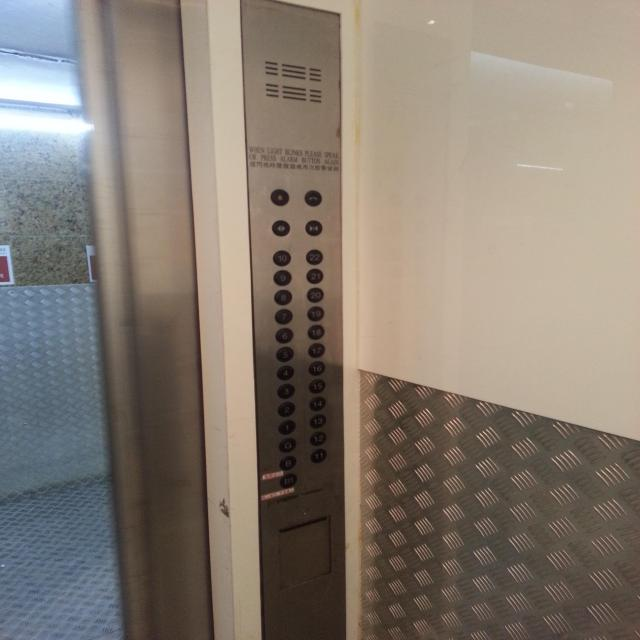1: (278, 420, 296, 434)
10: (272, 249, 292, 267)
11: (310, 448, 327, 463)
12: (310, 431, 326, 445)
13: (309, 414, 326, 428)
14: (309, 396, 326, 411)
15: (309, 379, 325, 393)
16: (308, 361, 325, 375)
17: (308, 343, 324, 358)
18: (307, 324, 324, 339)
19: (306, 306, 324, 320)
2: (277, 401, 295, 417)
20: (306, 287, 323, 302)
21: (306, 268, 323, 283)
22: (304, 248, 324, 266)
3: (277, 383, 294, 399)
4: (276, 365, 294, 380)
5: (275, 346, 294, 362)
6: (274, 328, 293, 343)
7: (274, 309, 293, 324)
8: (273, 289, 292, 306)
9: (273, 270, 291, 286)
B: (279, 456, 296, 470)
B1: (279, 473, 297, 488)
G: (278, 438, 296, 453)
alarm: (270, 188, 289, 206)
call: (304, 190, 322, 206)
close: (305, 220, 322, 236)
open: (271, 220, 290, 236)
